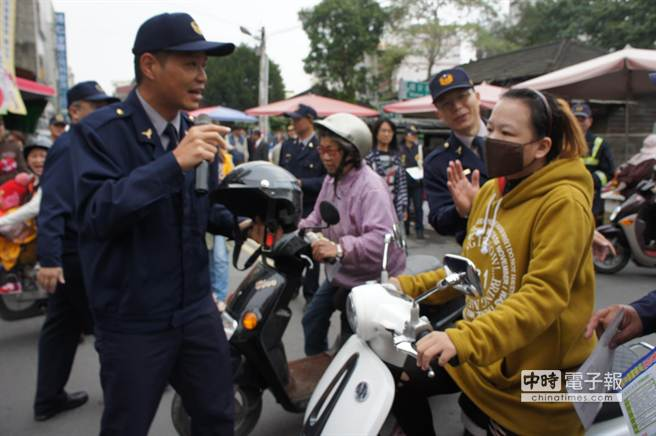helmet: (311, 111, 380, 151)
